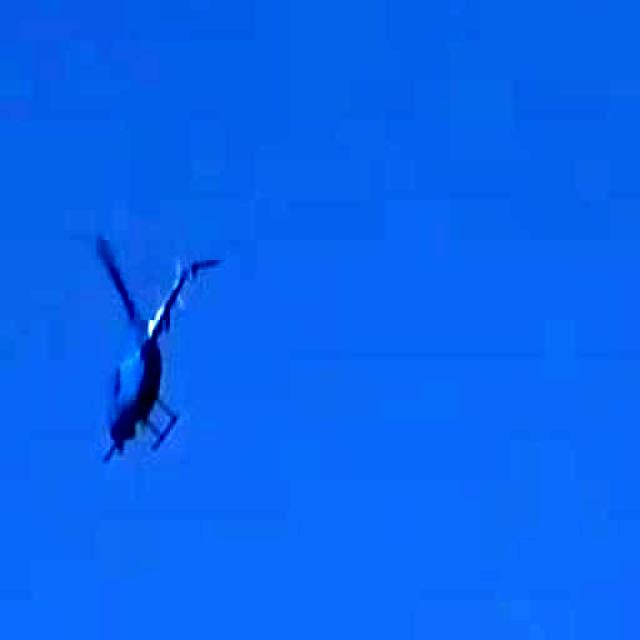drone: (32, 248, 251, 488)
